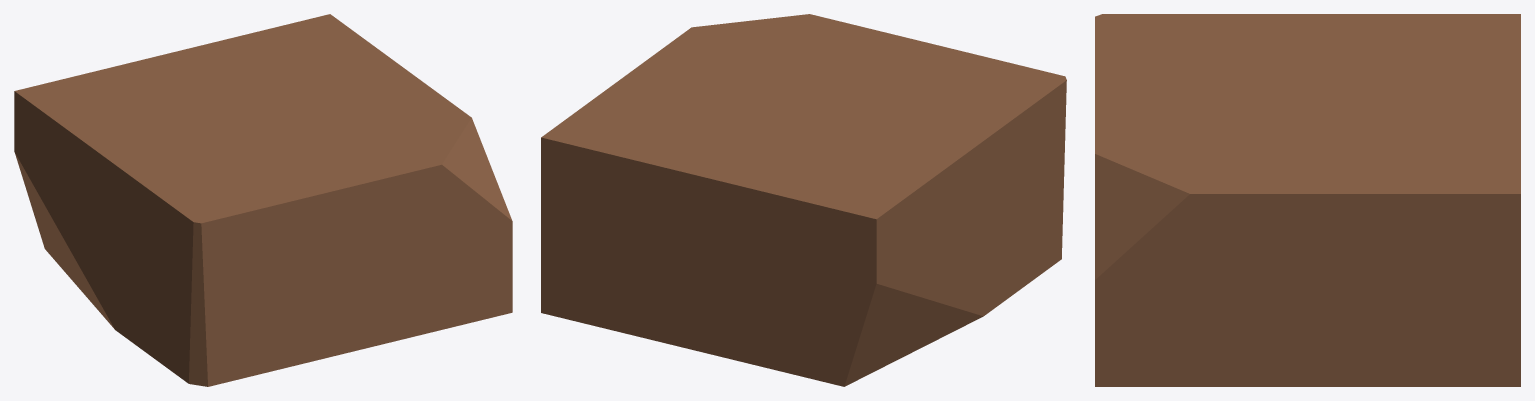
The model's file is Monument_012.FBX.
3 renders of one model, left to right at view 1: azimuth 30°, elevation 25°; view 2: azimuth 150°, elevation 25°; view 3: azimuth 270°, elevation 25°, orthographic. The views are drawn at different scales.
Parts seen in each view (by area): view 1: Monument_012; view 2: Monument_012; view 3: Monument_012.
Part boxes in pixels (bbox=[...]): Monument_012: bbox=[14, 14, 512, 386]; Monument_012: bbox=[541, 14, 1066, 386]; Monument_012: bbox=[1095, 14, 1520, 386].
Bounding box in the file's own units: 78.74 × 39.37 × 78.74.
